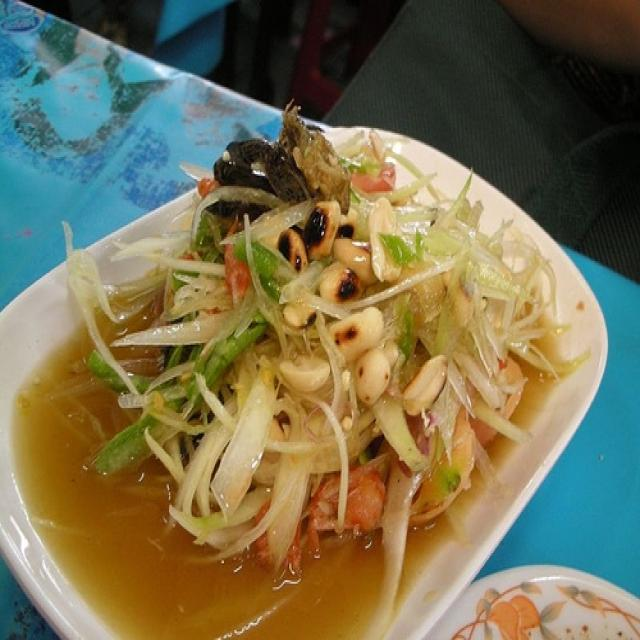蔬菜料理: (27, 90, 605, 622)
